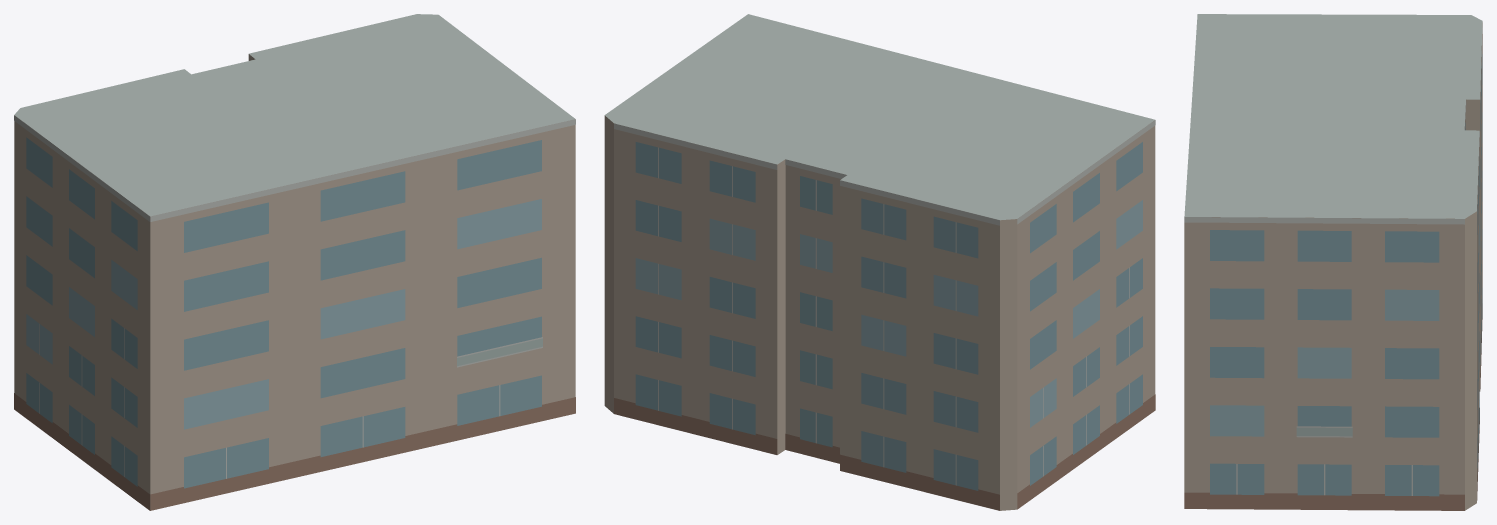
File: survey-upis-32626900.glb
The picture shows the model from 3 angles, left to right: view 1: azimuth 30°, elevation 25°; view 2: azimuth 150°, elevation 25°; view 3: azimuth 270°, elevation 25°; orthographic projection.
Visible parts, largest first — view 1: survey-upis-32626900.tmp; view 2: survey-upis-32626900.tmp; view 3: survey-upis-32626900.tmp.
Part boxes in pixels (bbox=[...]): survey-upis-32626900.tmp: bbox=[14, 14, 575, 510]; survey-upis-32626900.tmp: bbox=[604, 14, 1155, 510]; survey-upis-32626900.tmp: bbox=[1184, 14, 1482, 510].
Bounding box in the file's own units: 19.04 × 12.65 × 11.71.
